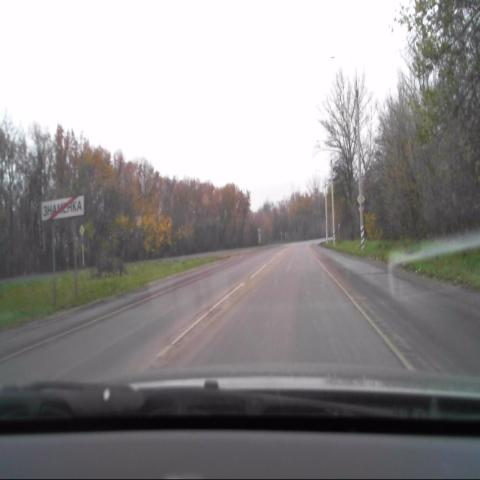2_1: (79, 223, 85, 234)
2_2: (357, 191, 364, 204)
